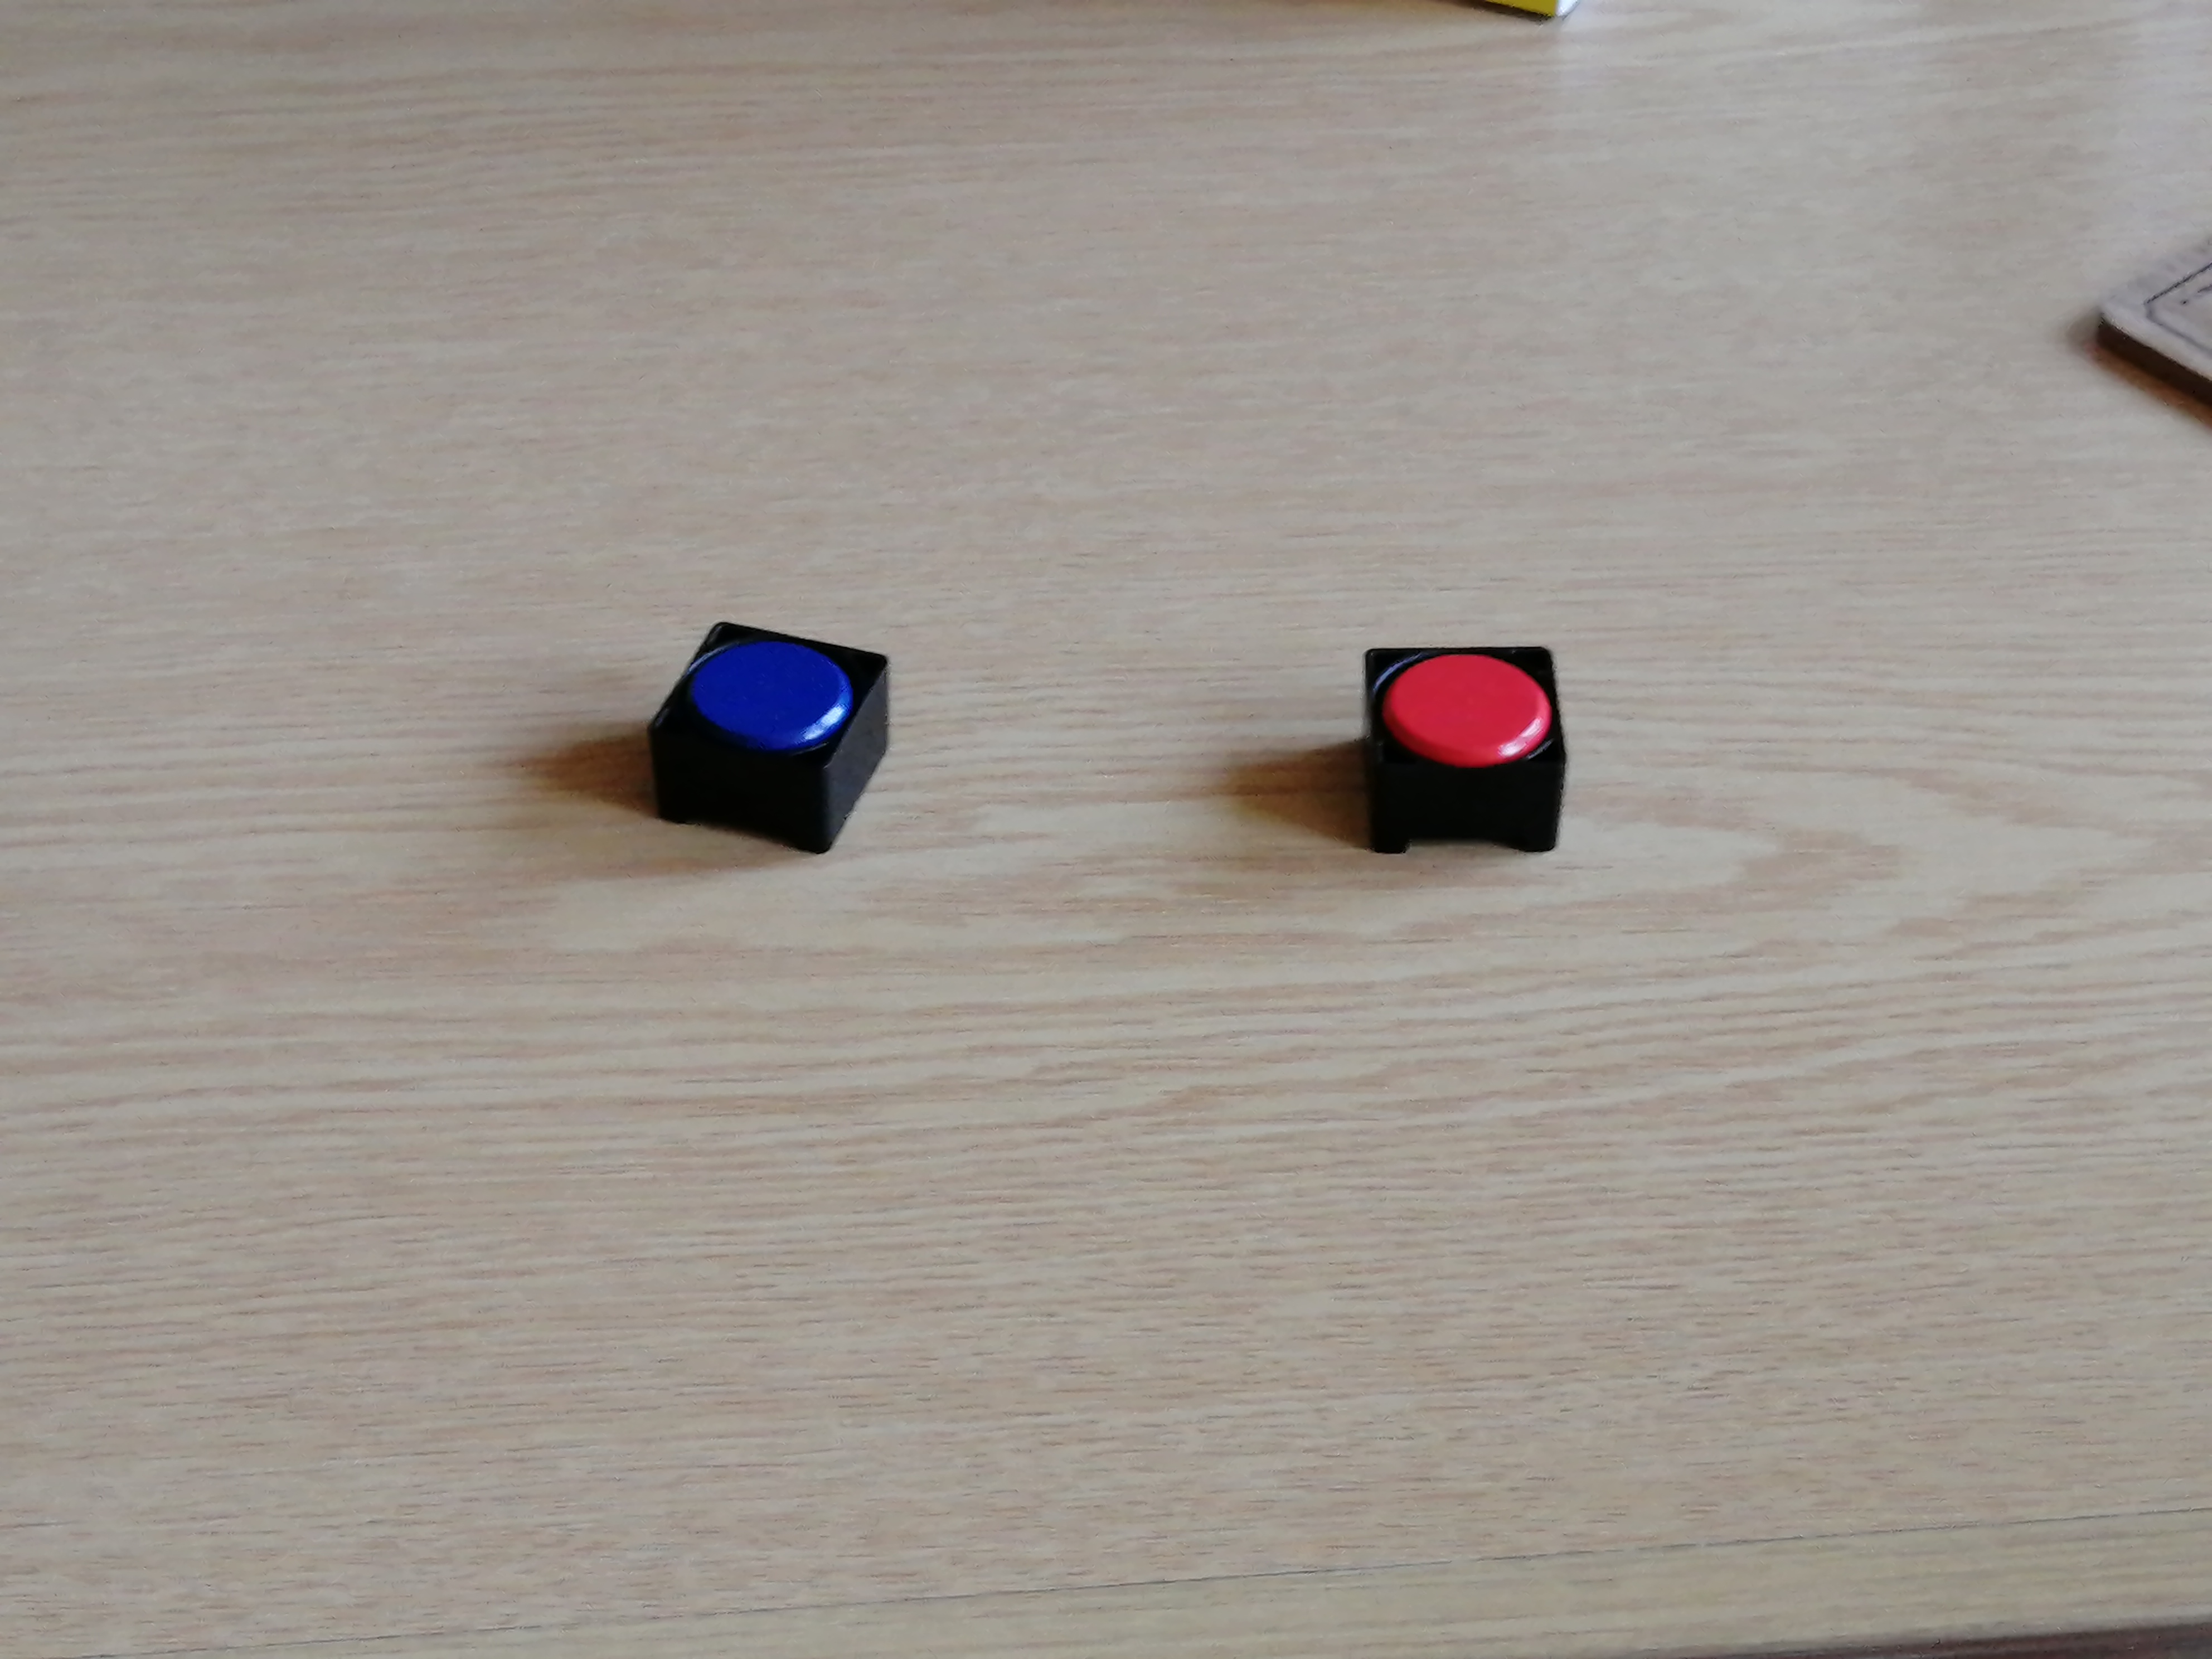Behaelter: (648, 620, 888, 863), (1359, 647, 1571, 857)
WerkStueck: (1393, 648, 1557, 760), (697, 647, 845, 751)
